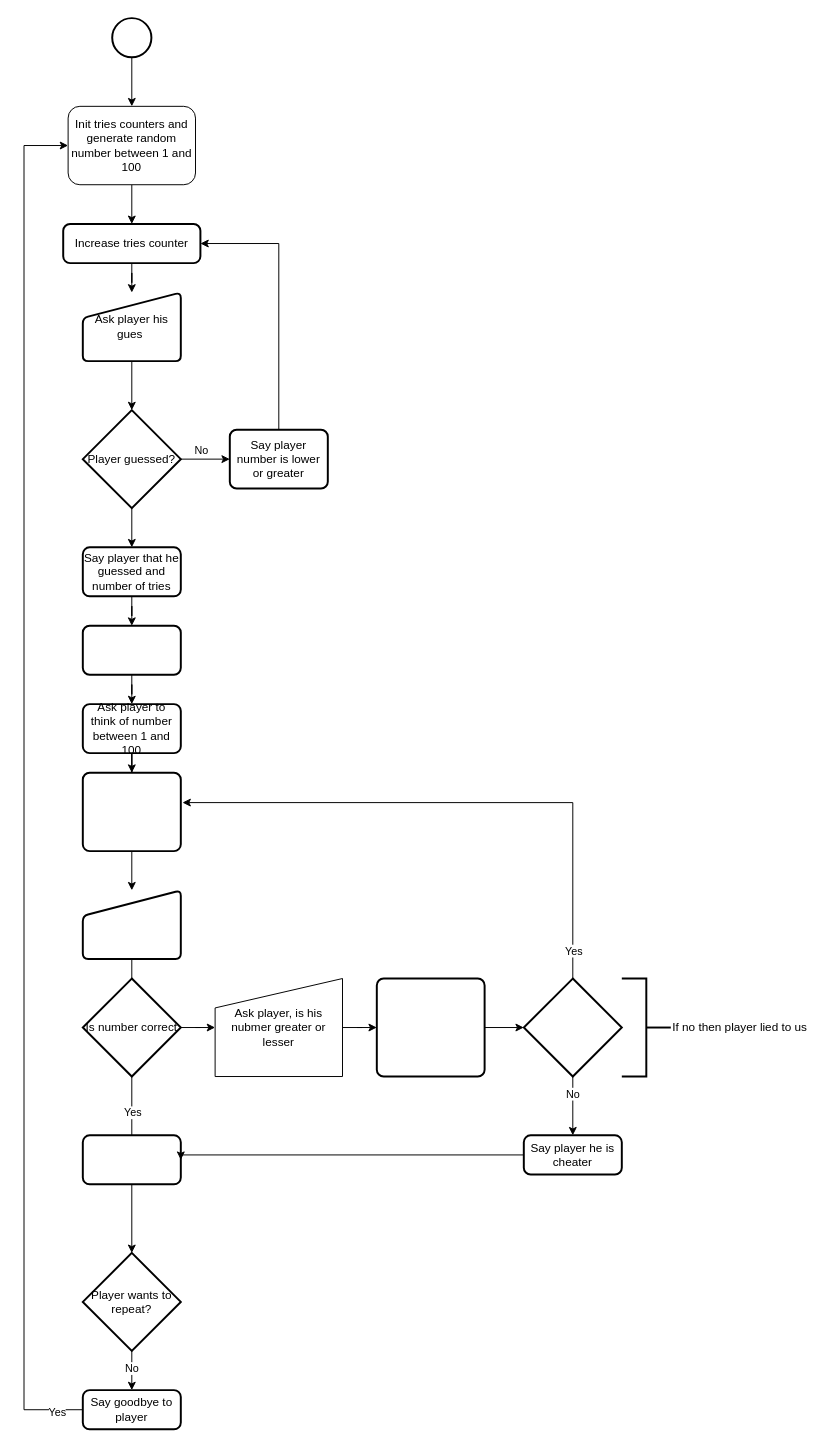
This 824x1446 diagram has some shape labels left out. Each missing label, with the centre of its shape:
Adust min and max accordingly to player's answer: (430,1027)
Ask player if this number correct: (131,924)
Init min and max numbers: (131,649)
Is min still lesser than max?: (572,1027)
Say amount of tries and who won: (131,1159)
Take number in the middle of min and max and increase number of tries: (131,811)
